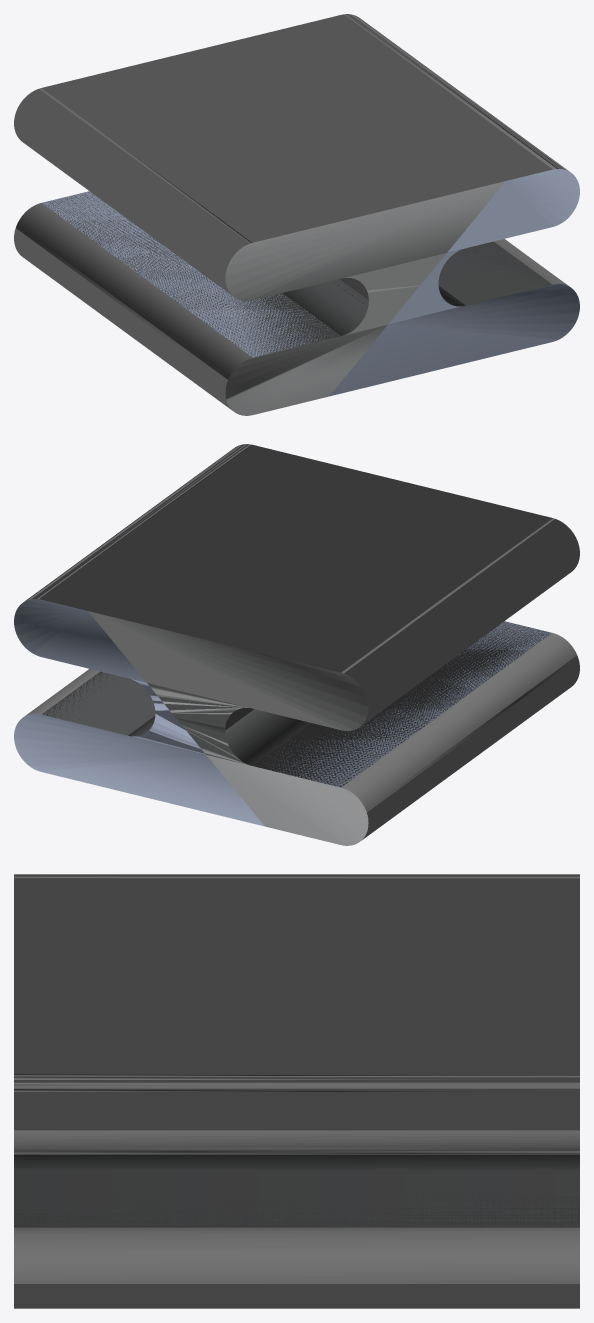
The model's file is steel.fbx.
The picture shows the model from 3 angles, top to bottom: view 1: azimuth 30°, elevation 25°; view 2: azimuth 150°, elevation 25°; view 3: azimuth 270°, elevation 25°; orthographic projection. The views are drawn at different scales.
Visible parts, largest first — view 1: steel; view 2: steel; view 3: steel.
Part boxes in pixels (box(x1,y1,x2,y2)): steel: box(14, 14, 579, 415); steel: box(14, 444, 579, 845); steel: box(14, 874, 579, 1308).
Bounding box in the file's own units: 452 × 210 × 467.
